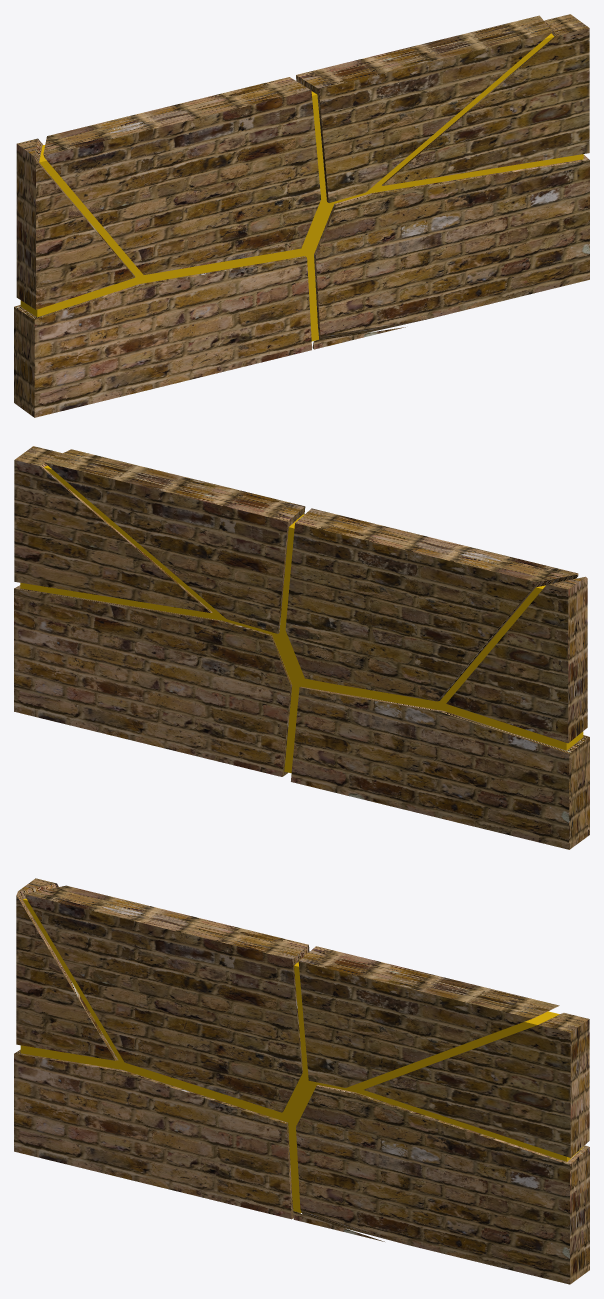
File: ParedDestuida 1.fbx
3 views of the same model, one above another, from view 1: azimuth 30°, elevation 25°; view 2: azimuth 150°, elevation 25°; view 3: azimuth 330°, elevation 25° (orthographic).
Visible parts, largest first — view 1: Cube_cell.006, Cube_cell.001, Cube_cell.007, Cube_cell, Cube_cell.002, Cube_cell.004, Cube; view 2: Cube_cell.001, Cube_cell.006, Cube_cell, Cube_cell.005, Cube_cell.007, Cube_cell.002, Cube_cell.004, Cube; view 3: Cube_cell.006, Cube_cell.001, Cube_cell.007, Cube_cell, Cube_cell.002, Cube_cell.004, Cube.
Boxes of the visible parts, x1=… form: Cube_cell.006: x1=43, y1=77, x2=320, y2=274; Cube_cell.001: x1=314, y1=155, x2=589, y2=340; Cube_cell.007: x1=14, y1=256, x2=311, y2=417; Cube_cell: x1=296, y1=15, x2=552, y2=202; Cube_cell.002: x1=382, y1=14, x2=589, y2=185; Cube_cell.004: x1=16, y1=138, x2=135, y2=309; Cube: x1=20, y1=33, x2=583, y2=341; Cube_cell.001: x1=14, y1=585, x2=292, y2=776; Cube_cell.006: x1=285, y1=508, x2=578, y2=701; Cube_cell: x1=44, y1=449, x2=305, y2=633; Cube_cell.005: x1=291, y1=686, x2=570, y2=849; Cube_cell.007: x1=308, y1=688, x2=589, y2=848; Cube_cell.002: x1=14, y1=446, x2=212, y2=612; Cube_cell.004: x1=446, y1=576, x2=587, y2=743; Cube: x1=20, y1=465, x2=583, y2=773; Cube_cell.006: x1=25, y1=885, x2=309, y2=1112; Cube_cell.001: x1=296, y1=1085, x2=589, y2=1284; Cube_cell.007: x1=14, y1=1049, x2=292, y2=1211; Cube_cell: x1=298, y1=946, x2=559, y2=1087; Cube_cell.002: x1=364, y1=1013, x2=589, y2=1157; Cube_cell.004: x1=16, y1=878, x2=118, y2=1060; Cube: x1=20, y1=898, x2=583, y2=1212.
Size of the model in its own units: 1975 by 880 by 126.
